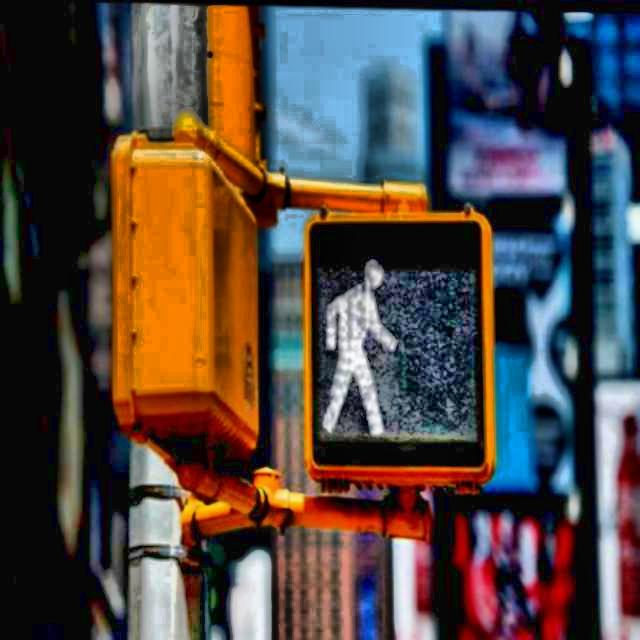semaforo pedestre: (193, 140, 584, 538)
